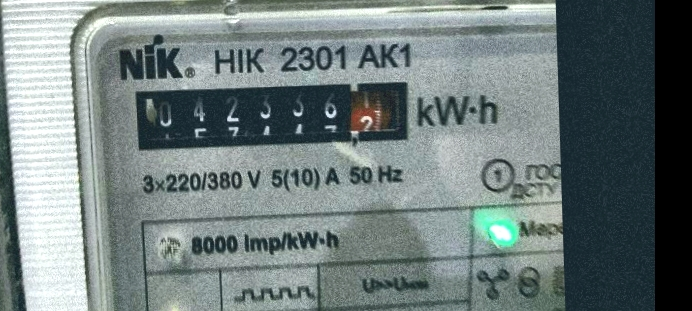0: (156, 99, 172, 128)
1: (358, 87, 371, 109)
2: (223, 93, 240, 123), (357, 113, 374, 132)
3: (287, 88, 304, 119), (255, 91, 271, 120)
4: (189, 93, 207, 123)
6: (321, 89, 339, 120)
screen: (123, 69, 421, 159)
